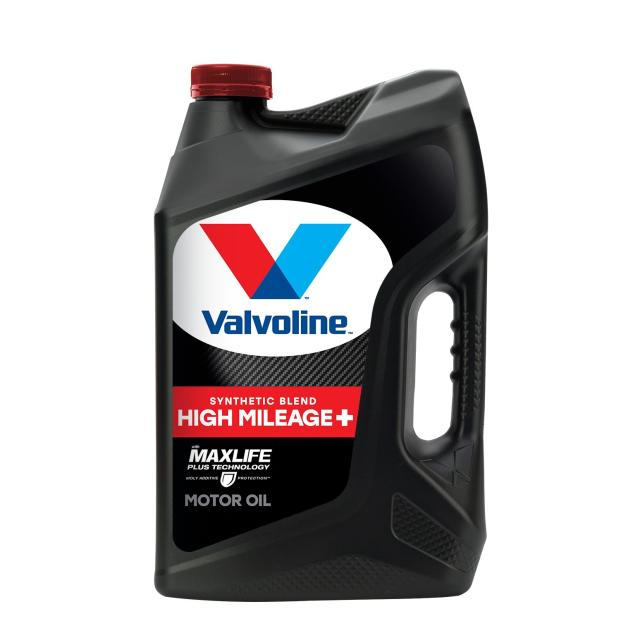motor_oil: (143, 55, 495, 606)
